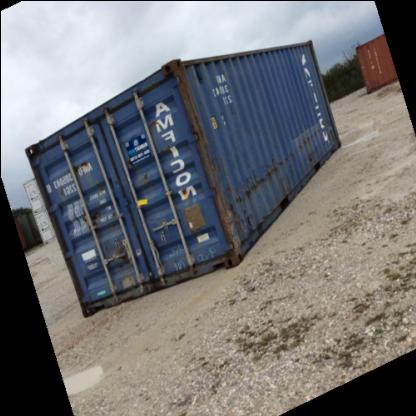Damage: (171, 66, 213, 136), (242, 158, 286, 198), (213, 204, 246, 252), (108, 230, 140, 276), (295, 123, 321, 163), (78, 195, 104, 231), (135, 158, 157, 184), (170, 176, 192, 198)
